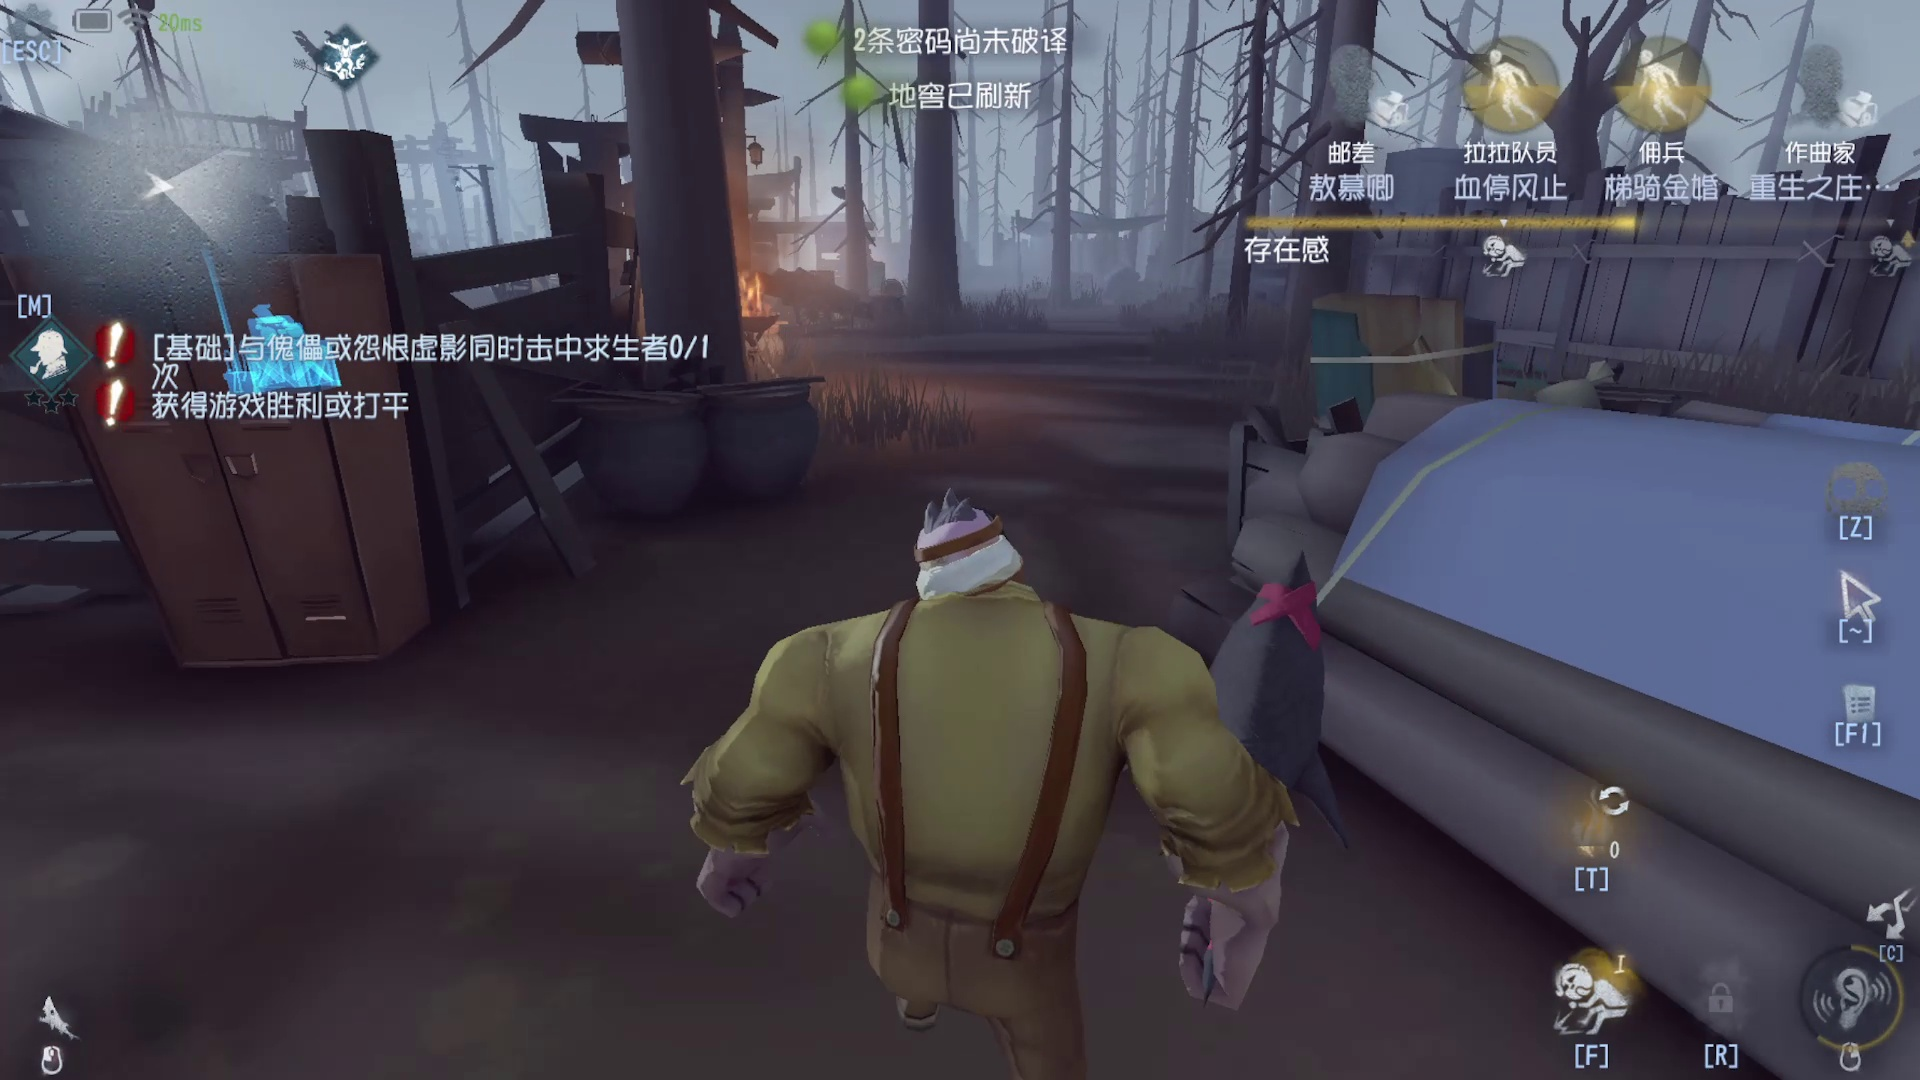密码机: (105, 32, 378, 425)
木板: (1273, 255, 1498, 436)
